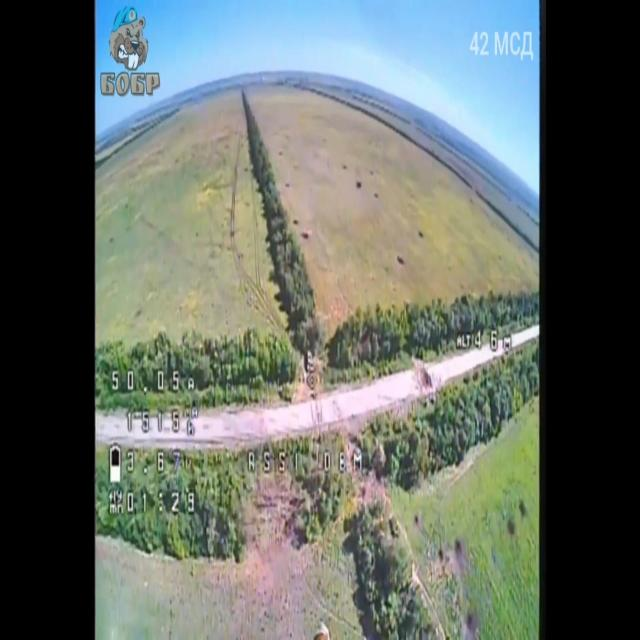cars: (304, 348, 316, 373)
